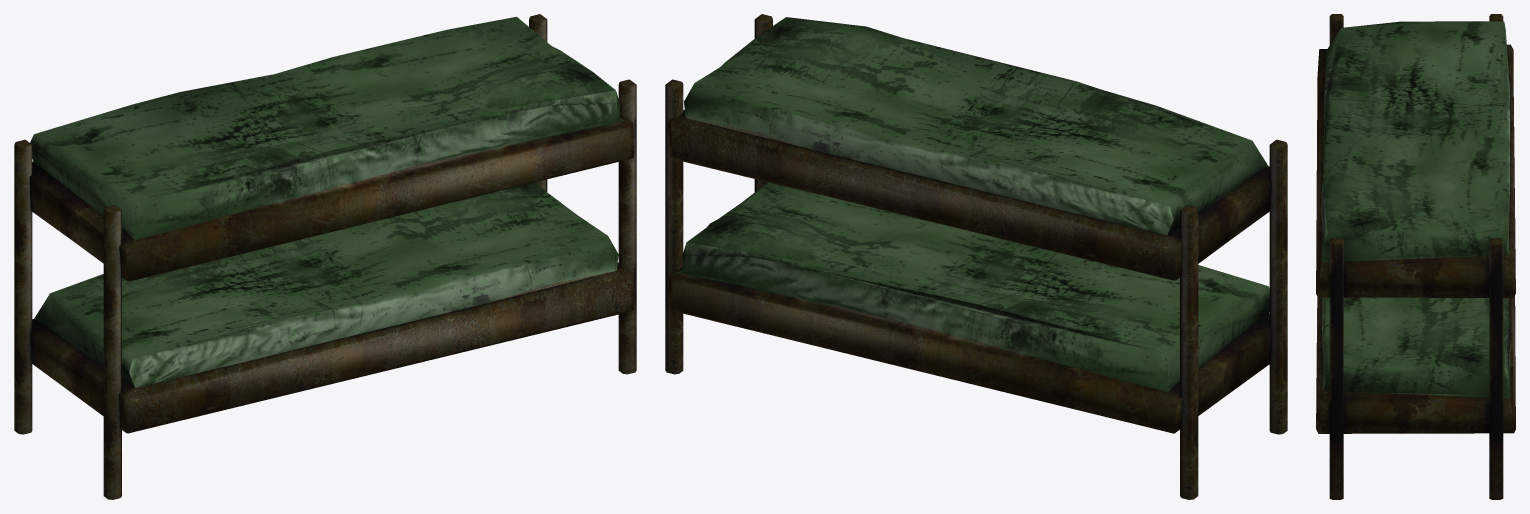
The model's file is bed.obj.
The picture shows the model from 3 angles, left to right: view 1: azimuth 30°, elevation 25°; view 2: azimuth 150°, elevation 25°; view 3: azimuth 270°, elevation 25°; orthographic projection. The views are drawn at different scales.
Visible parts, largest first — view 1: Plane; view 2: Plane; view 3: Plane.
Part boxes in pixels (box(x1,y1,x2,y2)): Plane: box(14, 14, 636, 499); Plane: box(665, 14, 1287, 499); Plane: box(1316, 14, 1515, 499).
Size of the model in its own units: 594 by 323 by 218.
Materials: 1 (1 with a texture image).
